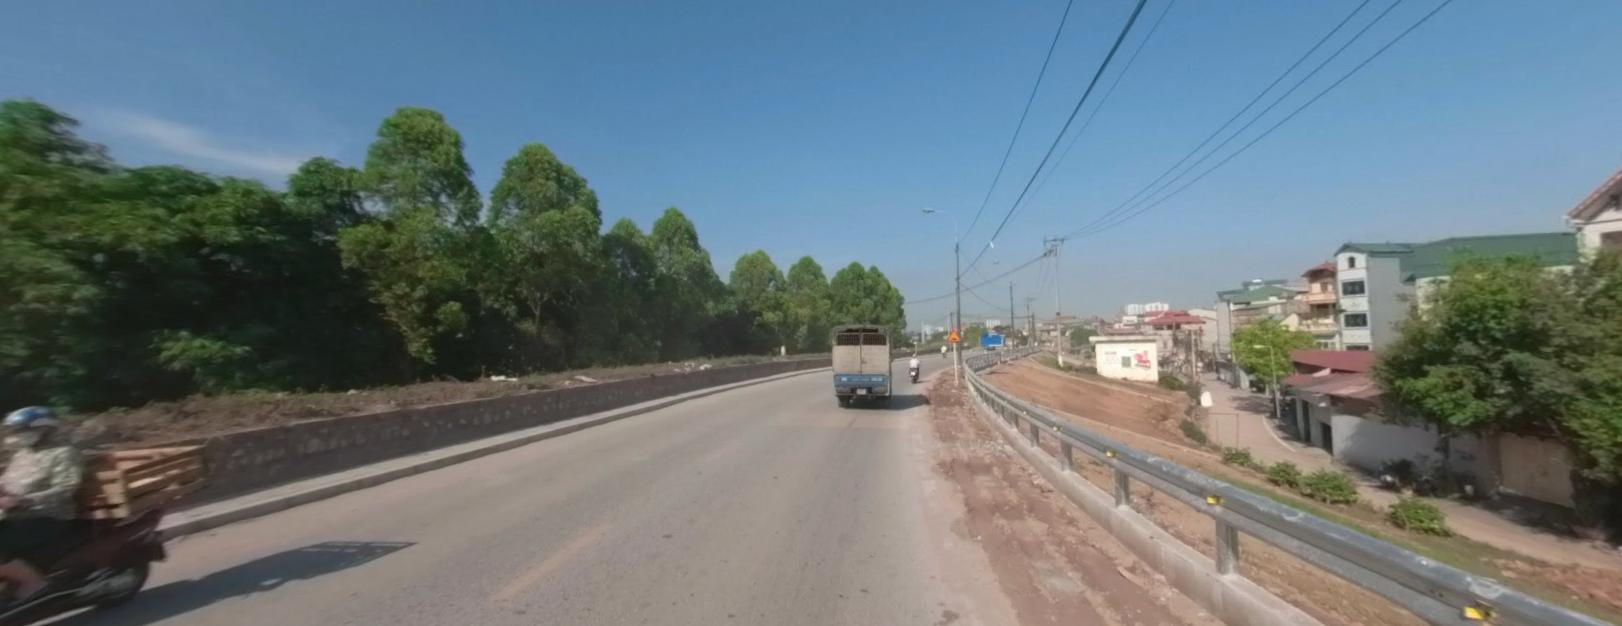Nguy hiem: (947, 328, 960, 339), (947, 328, 959, 339)
